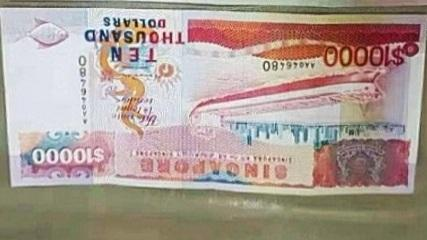10000SingaporeDollar: (11, 15, 416, 184)
